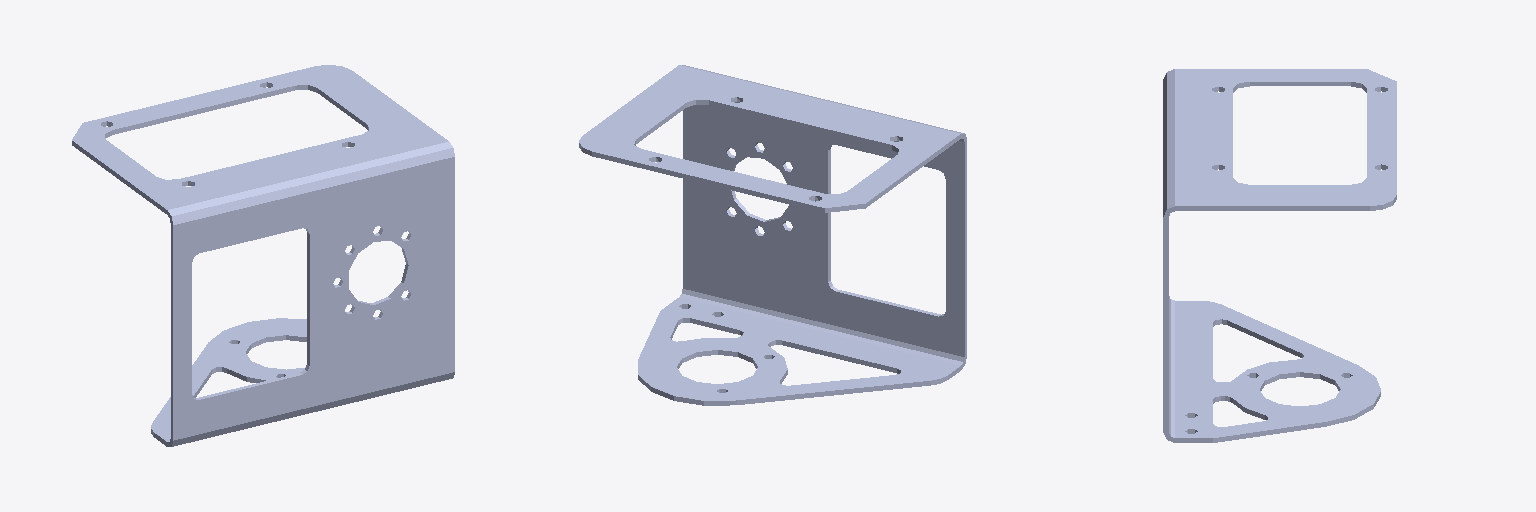
File: Hals-Pitch.obj
3 renders of one model, left to right at view 1: azimuth 30°, elevation 25°; view 2: azimuth 150°, elevation 25°; view 3: azimuth 270°, elevation 25°, orthographic.
Parts seen in each view (by area): view 1: Stamm|Minimal-Hals-Pitch_(Standard)|Hals_Pitch-1|Hals_U-Profil-P; view 2: Stamm|Minimal-Hals-Pitch_(Standard)|Hals_Pitch-1|Hals_U-Profil-P; view 3: Stamm|Minimal-Hals-Pitch_(Standard)|Hals_Pitch-1|Hals_U-Profil-P.
Part boxes in pixels (bbox=[...]): Stamm|Minimal-Hals-Pitch_(Standard)|Hals_Pitch-1|Hals_U-Profil-P: bbox=[72, 65, 454, 446]; Stamm|Minimal-Hals-Pitch_(Standard)|Hals_Pitch-1|Hals_U-Profil-P: bbox=[579, 65, 966, 405]; Stamm|Minimal-Hals-Pitch_(Standard)|Hals_Pitch-1|Hals_U-Profil-P: bbox=[1163, 69, 1396, 442].
Size of the model in its own units: 0.06 by 0.0482 by 0.043.